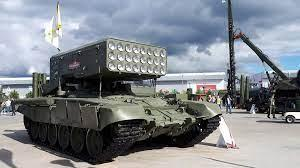rszo: (20, 37, 226, 160)
